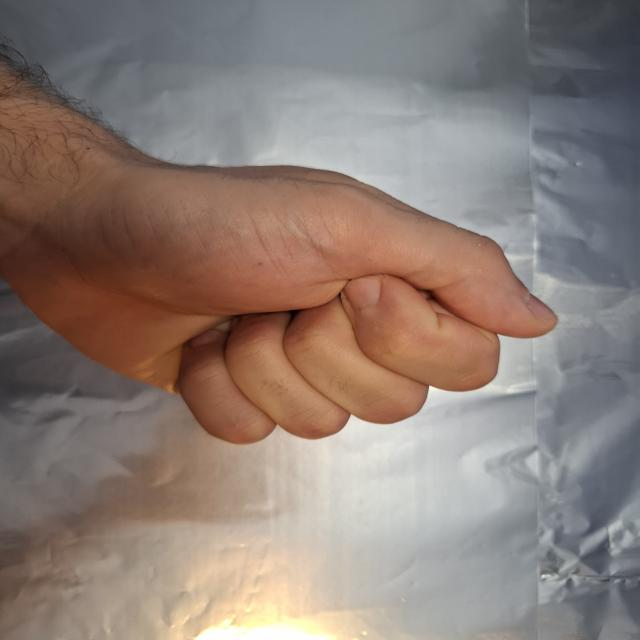glove_off: (11, 118, 562, 450)
